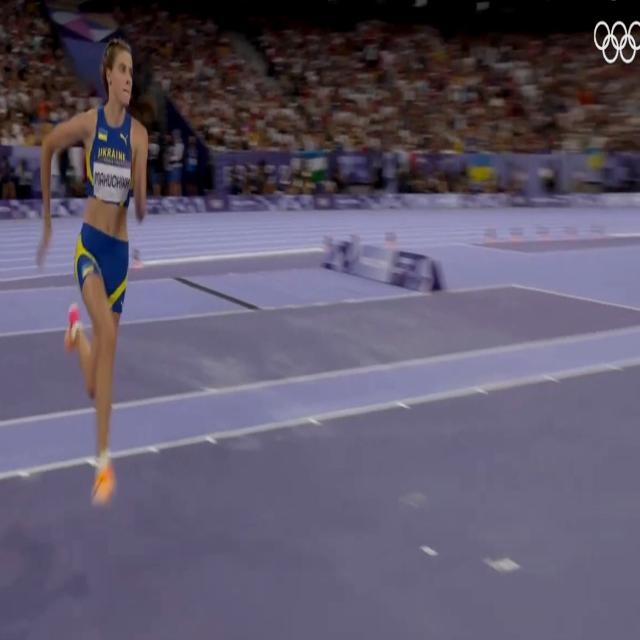run: (38, 34, 152, 510)
